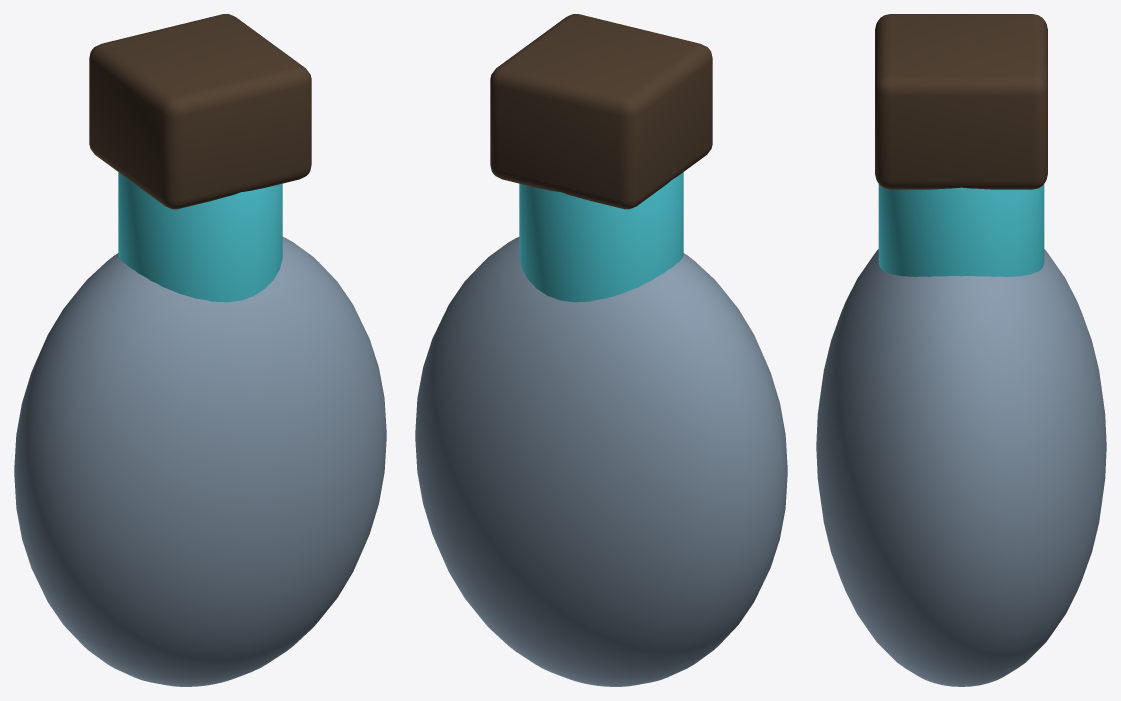
Rendered from trinket_v5.glb.
3 renders of one model, left to right at view 1: azimuth 30°, elevation 25°; view 2: azimuth 150°, elevation 25°; view 3: azimuth 270°, elevation 25°, orthographic.
Parts seen in each view (by area): view 1: VIAL_GLASS_PRIMARY, VIAL_CORK_SECONDARY, VIAL_NECK_ACCENT; view 2: VIAL_GLASS_PRIMARY, VIAL_CORK_SECONDARY, VIAL_NECK_ACCENT; view 3: VIAL_GLASS_PRIMARY, VIAL_CORK_SECONDARY, VIAL_NECK_ACCENT.
Part boxes in pixels (x1,y1,x2,y2): VIAL_GLASS_PRIMARY: (14, 237, 386, 686); VIAL_CORK_SECONDARY: (89, 14, 311, 209); VIAL_NECK_ACCENT: (118, 172, 282, 302); VIAL_GLASS_PRIMARY: (415, 237, 787, 686); VIAL_CORK_SECONDARY: (490, 14, 712, 209); VIAL_NECK_ACCENT: (519, 172, 683, 302); VIAL_GLASS_PRIMARY: (816, 249, 1106, 686); VIAL_CORK_SECONDARY: (875, 14, 1047, 189); VIAL_NECK_ACCENT: (878, 184, 1044, 276).
Bounding box in the file's own units: 1.16 × 2 × 0.84.
